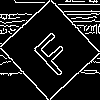F: (24, 25, 79, 79)
